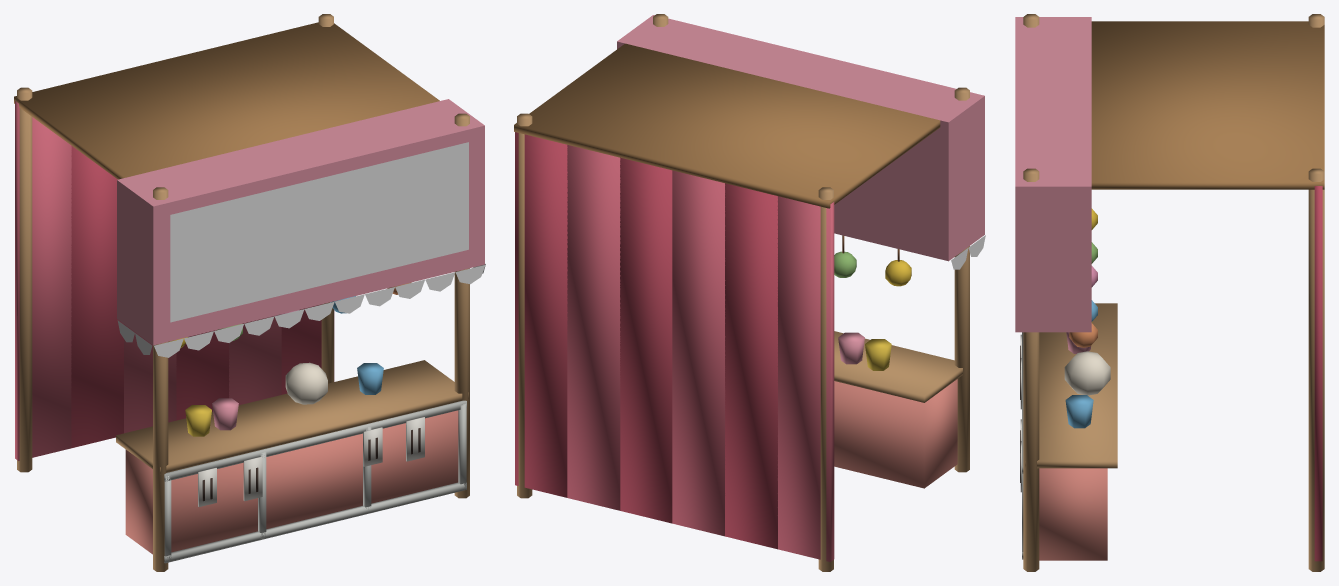
The model's file is stall_pink.glb.
3 renders of one model, left to right at view 1: azimuth 30°, elevation 25°; view 2: azimuth 150°, elevation 25°; view 3: azimuth 270°, elevation 25°, orthographic. The views are drawn at different scales.
Parts seen in each view (by area): view 1: stall_pink, stall_pink_label, stall_pink_board; view 2: stall_pink, stall_pink_board; view 3: stall_pink, stall_pink_board.
Boxes of the visible parts, x1,y1,x2,y2 form: stall_pink: (14,14,485,571); stall_pink_label: (170,142,468,322); stall_pink_board: (117,99,484,345); stall_pink: (514,14,985,571); stall_pink_board: (617,15,984,261); stall_pink: (1020,14,1324,571); stall_pink_board: (1015,17,1091,332).
Bounding box in the file's own units: 2.01 × 2.18 × 1.55.
